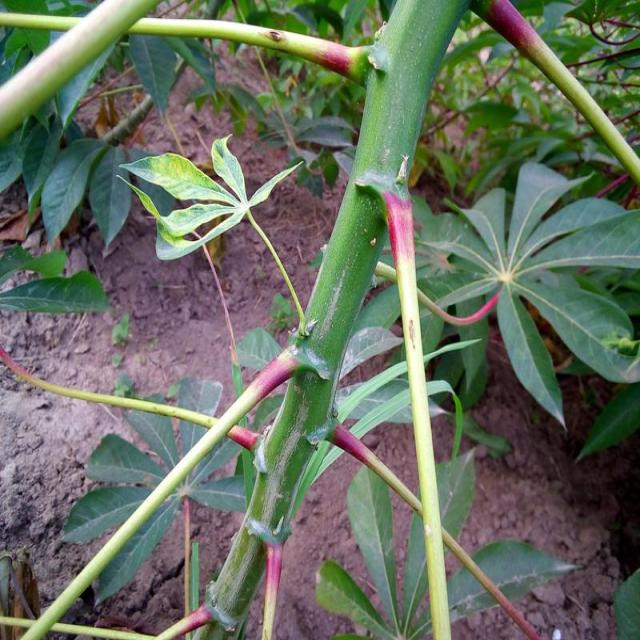cassava leaf: (197, 0, 474, 636)
